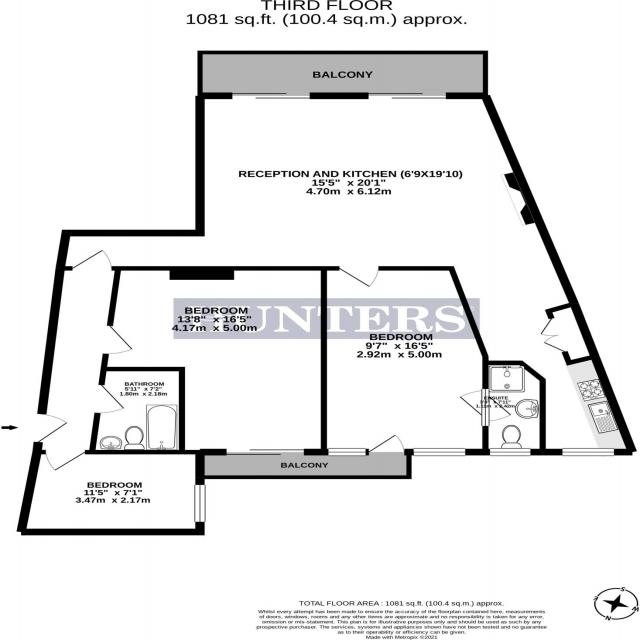DOOR: (33, 412, 70, 443), (41, 450, 86, 473), (102, 324, 135, 355), (336, 266, 379, 288), (71, 248, 112, 271), (95, 384, 125, 414), (368, 433, 406, 456)
ROOM: (55, 92, 636, 456), (101, 266, 327, 455), (320, 266, 490, 456), (17, 450, 206, 536)
SLIDING DOOR: (364, 90, 450, 100), (228, 92, 313, 100)
WINDOW: (559, 447, 616, 457), (194, 483, 207, 523), (411, 448, 468, 457), (481, 387, 491, 428), (489, 448, 533, 457), (327, 448, 369, 456)
